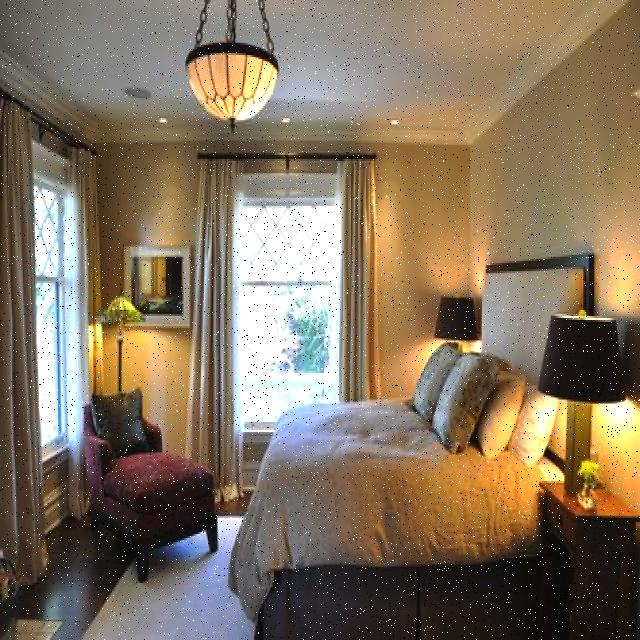bed: (254, 252, 589, 609)
